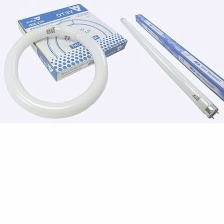book: (11, 0, 129, 86), (132, 11, 224, 103)
light_bulb: (118, 14, 222, 124), (0, 22, 111, 122)
